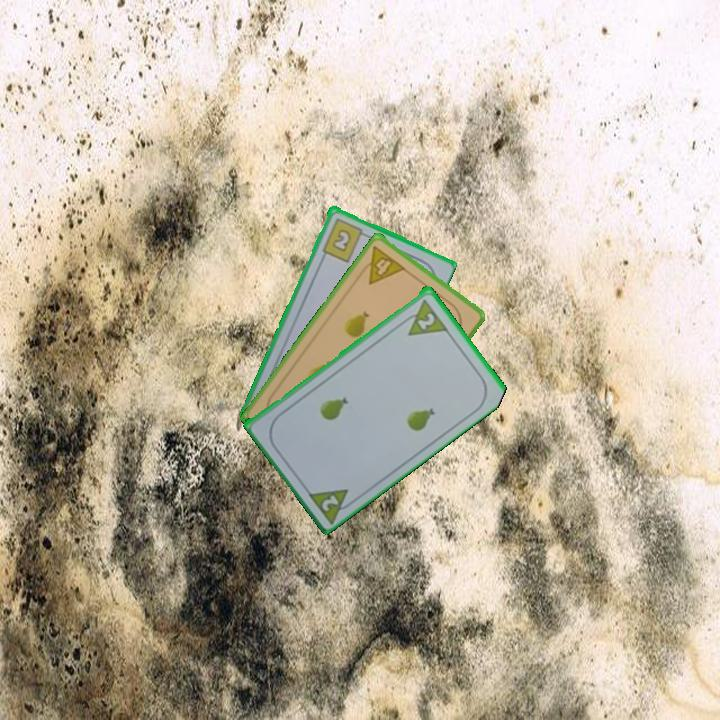2b: (319, 214, 370, 264)
2p: (303, 484, 359, 525), (414, 308, 438, 332)
4p: (355, 242, 408, 287)
